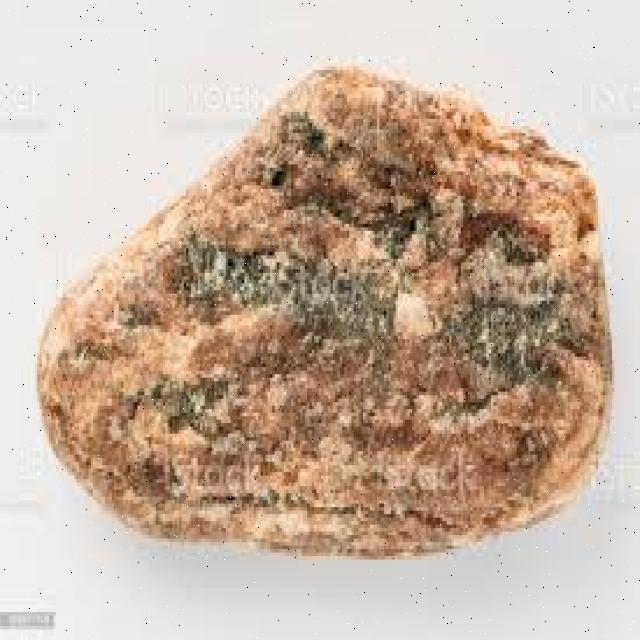Metamorphic: (21, 49, 614, 574)
